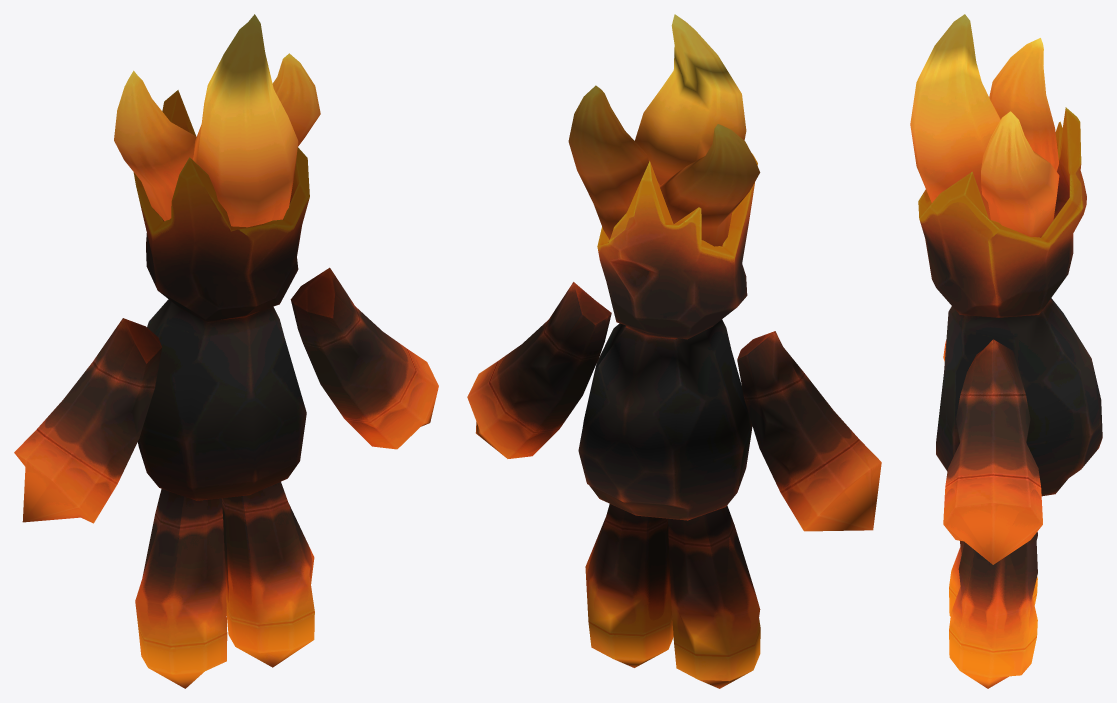
File: mvr_petmgm2501.glb
3 views of the same model, side by side, from view 1: azimuth 30°, elevation 25°; view 2: azimuth 150°, elevation 25°; view 3: azimuth 270°, elevation 25° (orthographic). The views are drawn at different scales.
Visible parts, largest first — view 1: MonsterMesh; view 2: MonsterMesh; view 3: MonsterMesh.
Boxes of the visible parts, box(x1,y1,x2,y2) form: MonsterMesh: box(14, 14, 438, 688); MonsterMesh: box(467, 14, 881, 688); MonsterMesh: box(910, 14, 1102, 688).
Bounding box in the file's own units: 0.6735 × 1.06 × 0.2791.
Materials: 1 (1 with a texture image).
